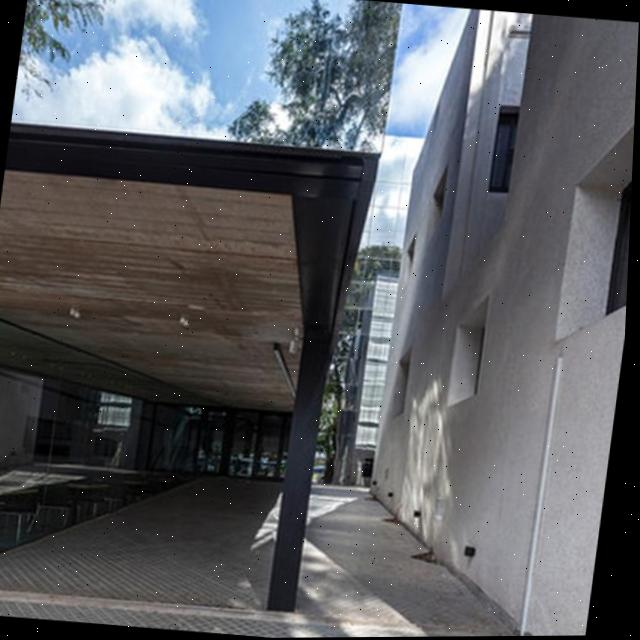building: (0, 117, 378, 612), (347, 3, 640, 637)
